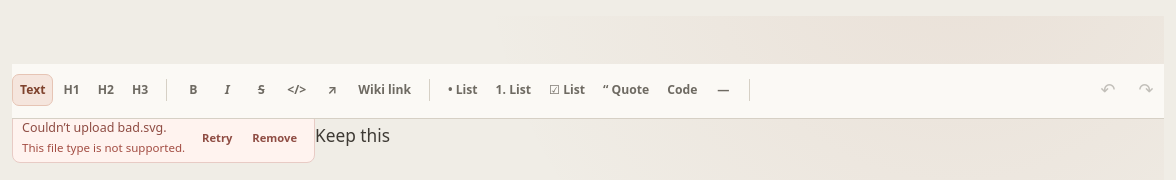
Test: PageEditor › removes a failed upload decoration without removing editor content
This screenshot has width=1176, height=180.
Click the button with aria-label "Remove failed upload bad.svg" at (275, 138), box [244, 124, 305, 151]
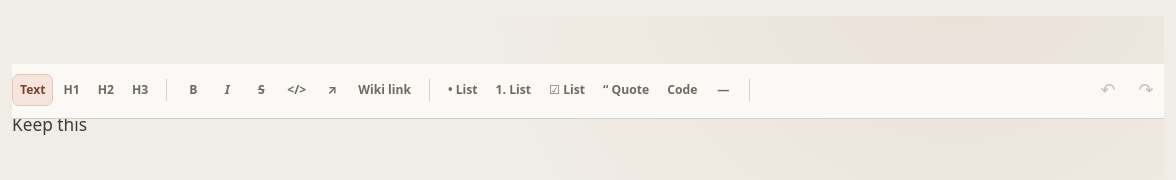
Now the message with class "asset-upload-decoration" is gone
Now the field named "Page content" reads "Keep this", box [12, 113, 87, 136]
